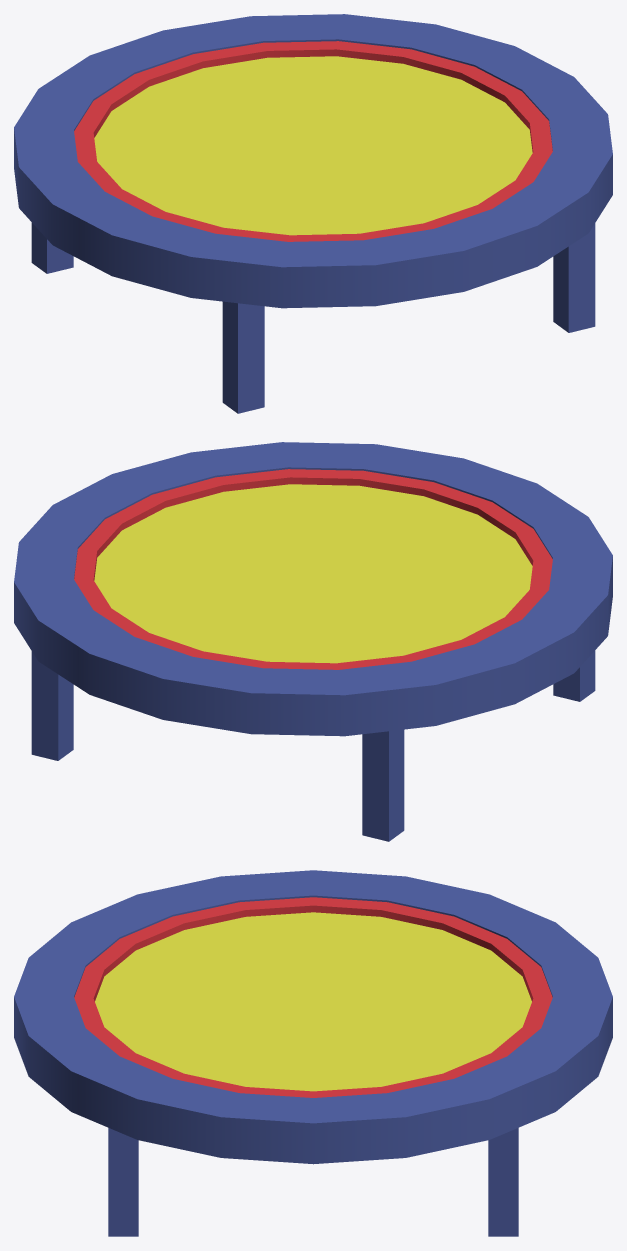
Rendered from Trampoline.fbx.
The picture shows the model from 3 angles, top to bottom: view 1: azimuth 30°, elevation 25°; view 2: azimuth 150°, elevation 25°; view 3: azimuth 270°, elevation 25°; orthographic projection.
Visible parts, largest first — view 1: Trampoline; view 2: Trampoline; view 3: Trampoline.
Boxes of the visible parts, box(x1,y1,x2,y2) form: Trampoline: box(14, 14, 612, 413); Trampoline: box(14, 442, 612, 841); Trampoline: box(14, 870, 612, 1236).
Size of the model in its own units: 19.63 by 5.54 by 19.63.
